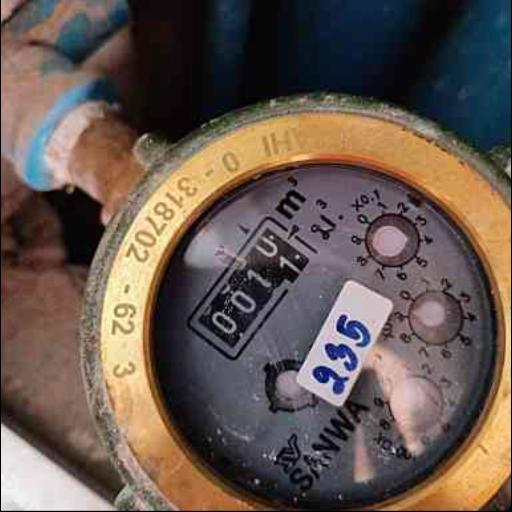0: (249, 227, 312, 285), (213, 274, 269, 327), (197, 299, 250, 349)
1: (232, 252, 285, 301)
border_water_meter_number: (182, 213, 319, 364)
